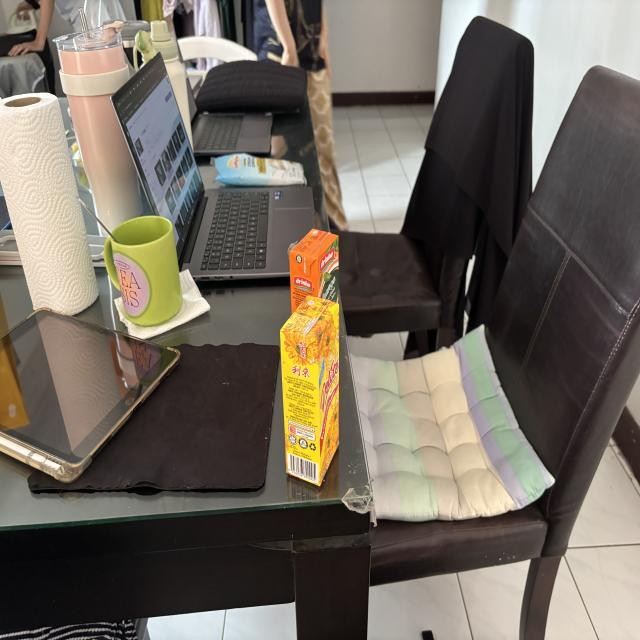drink_carton: (273, 286, 349, 496), (279, 218, 346, 319)
